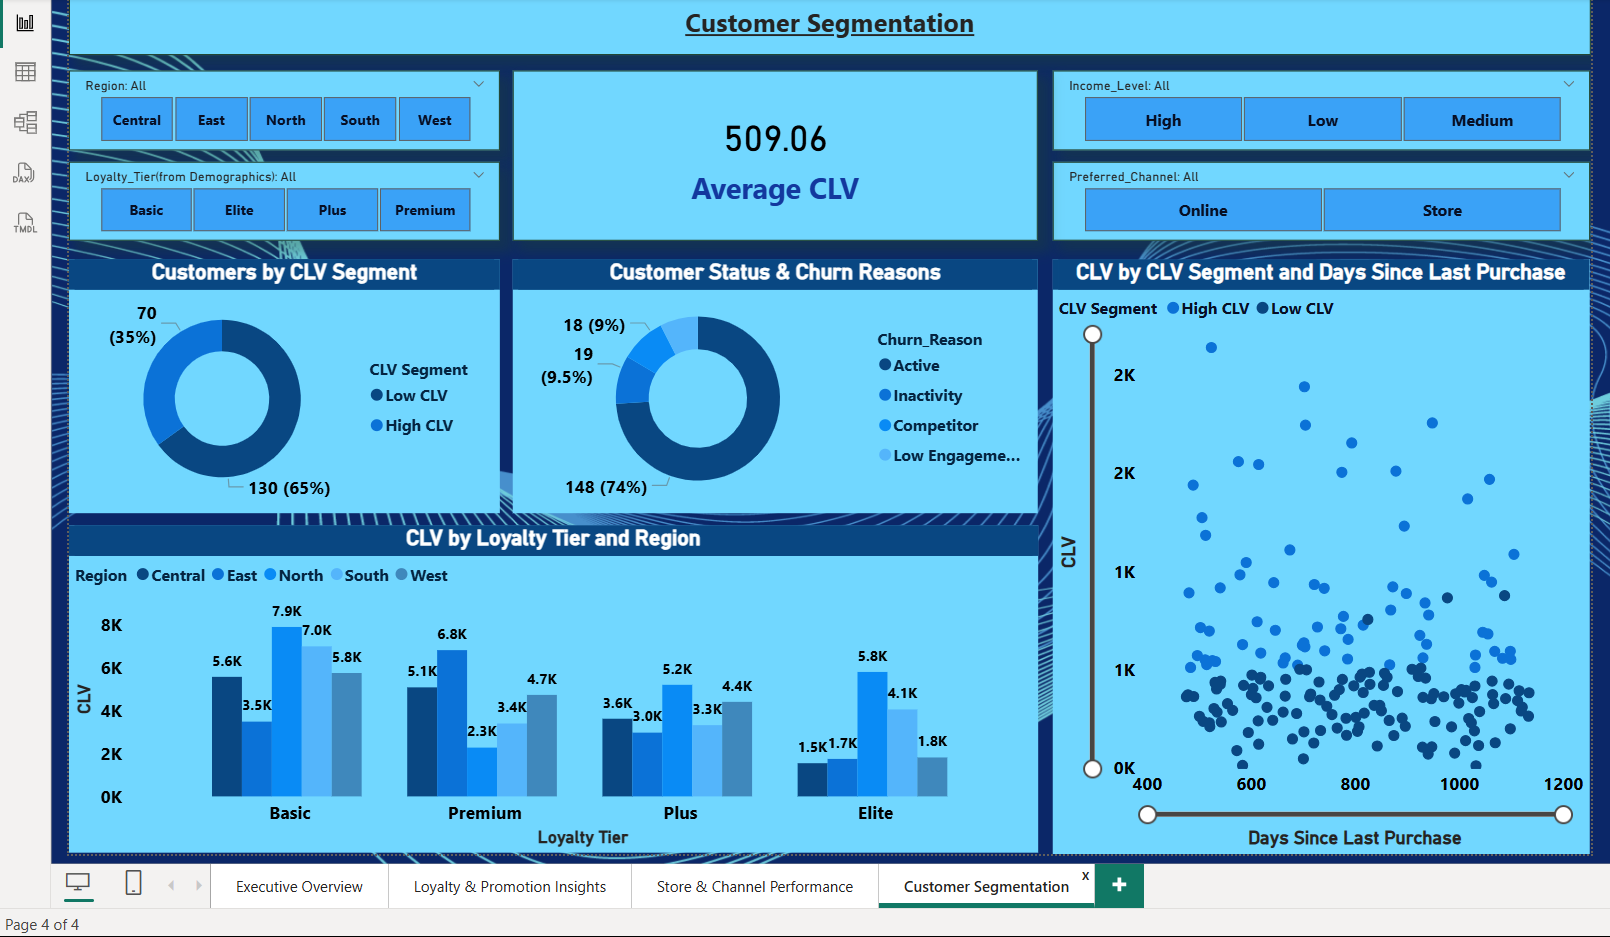

The page's visual inventory and layout, read from the dashboard file:
{"tool":"powerbi","page":{"name":"Customer Segmentation","canvas":[1280,720],"ordinal":3},"visuals":[{"type":"textbox","box":[0,0,1280.2,47.7],"z":0},{"type":"slicer","fields":{"Values":["Customer_Demographics.Region"]},"box":[0,60.5,362.8,67.4],"z":1000},{"type":"slicer","fields":{"Values":["Customer_Demographics.Loyalty_Tier(from Demographics)"]},"box":[0,137.2,362.8,66.3],"z":2000},{"type":"slicer","fields":{"Values":["Customer_Demographics.Income_Level"]},"box":[827.9,60.5,452.3,67.4],"z":3000},{"type":"slicer","fields":{"Values":["Customer_Demographics.Preferred_Channel"]},"box":[827.9,137.2,452.3,66.3],"z":4000},{"type":"scatterChart","fields":{"Series":["Customer_Demographics.CLV Segment"],"X":["Churn_Labelled_Customers.Days Since Last Purchase"],"Y":["Measures_Table.CLV"]},"box":[827.9,219.8,451.2,500],"z":5000},{"type":"card","fields":{"Values":["Measures_Table.Average CLV (Global)"]},"box":[373.3,60.5,441.9,143],"z":6000},{"type":"donutChart","title":"Customers by CLV Segment","fields":{"Category":["Customer_Demographics.CLV Segment"],"Y":["Measures_Table.Total Customers"]},"box":[0,219.8,362.8,214],"z":7000},{"type":"donutChart","title":"Customer Status & Churn Reasons","fields":{"Category":["Churn_Labelled_Customers.Churn_Reason"],"Y":["Measures_Table.Total Customers"]},"box":[373.3,219.8,441.9,214],"z":8000},{"type":"clusteredColumnChart","fields":{"Y":["Measures_Table.CLV"],"Category":["Loyalty_Program.Loyalty_Tier"],"Series":["Customer_Demographics.Region"]},"box":[0,444.2,815.1,275.6],"z":9000}]}

Visuals, with their boxes in screenshot pixels (x1, y1, x2, y2):
textbox: bbox=[59, 0, 1590, 49]
slicer - Customer_Demographics.Region: bbox=[59, 64, 493, 145]
slicer - Customer_Demographics.Loyalty_Tier(from Demographics): bbox=[59, 156, 493, 235]
slicer - Customer_Demographics.Income_Level: bbox=[1049, 64, 1590, 145]
slicer - Customer_Demographics.Preferred_Channel: bbox=[1049, 156, 1590, 235]
scatterChart - Customer_Demographics.CLV Segment x Churn_Labelled_Customers.Days Since Last Purchase: bbox=[1049, 255, 1589, 853]
card - Measures_Table.Average CLV (Global): bbox=[505, 64, 1034, 235]
"Customers by CLV Segment" donutChart: bbox=[59, 255, 493, 511]
"Customer Status & Churn Reasons" donutChart: bbox=[505, 255, 1034, 511]
clusteredColumnChart - Measures_Table.CLV x Loyalty_Program.Loyalty_Tier: bbox=[59, 523, 1034, 853]
